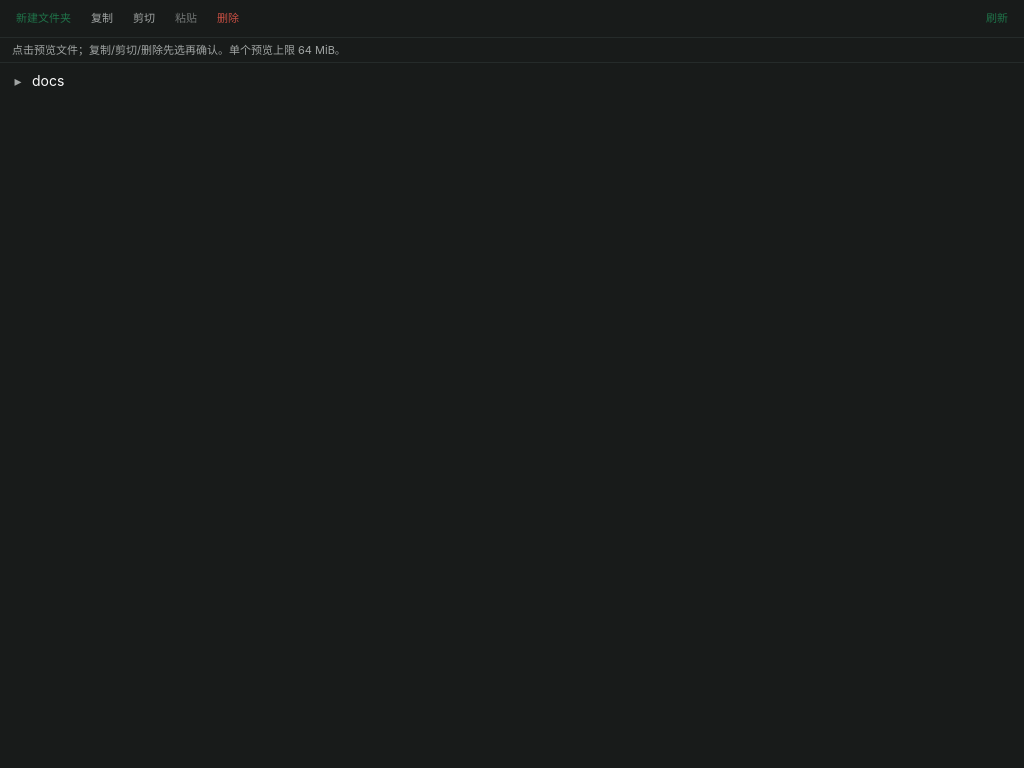
Test: the files panel › expands a directory in place instead of navigating the whole UI
Click the list item "docs" at (48, 80), box [32,67,1012,95]
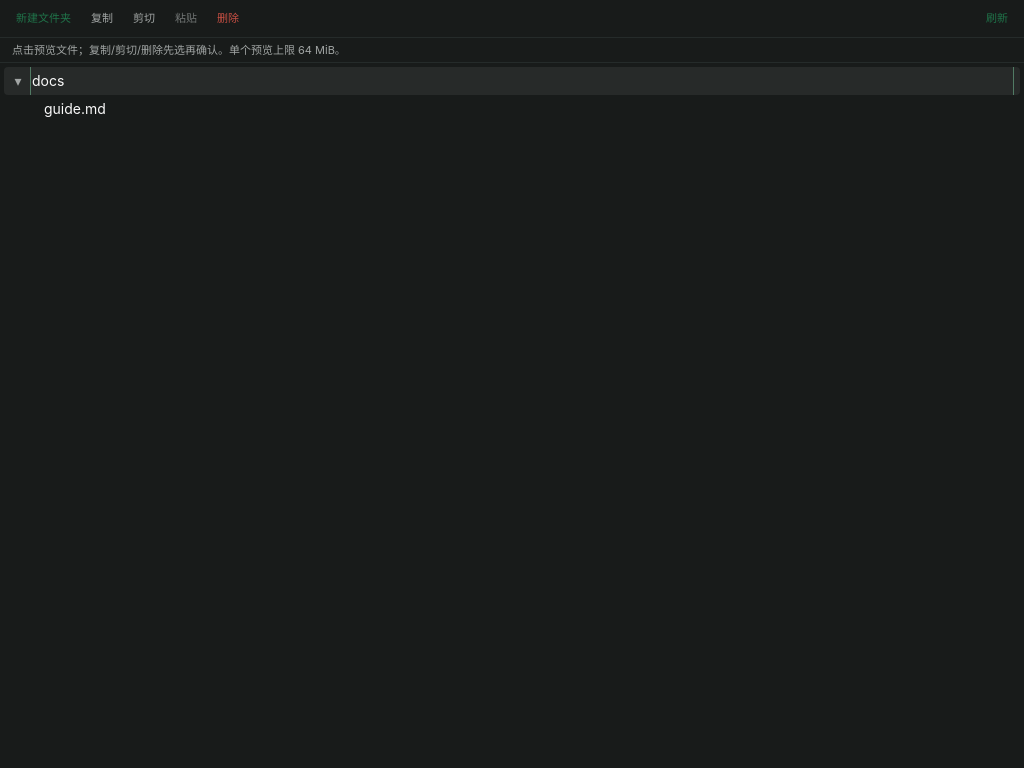
Expected: the text "点击预览文件；复制/剪切/删除先选再确认。单个预览上限 64 MiB。" is shown, [0,38,1023,63]
Now the text "guide.md" is shown, box [44,99,106,119]
